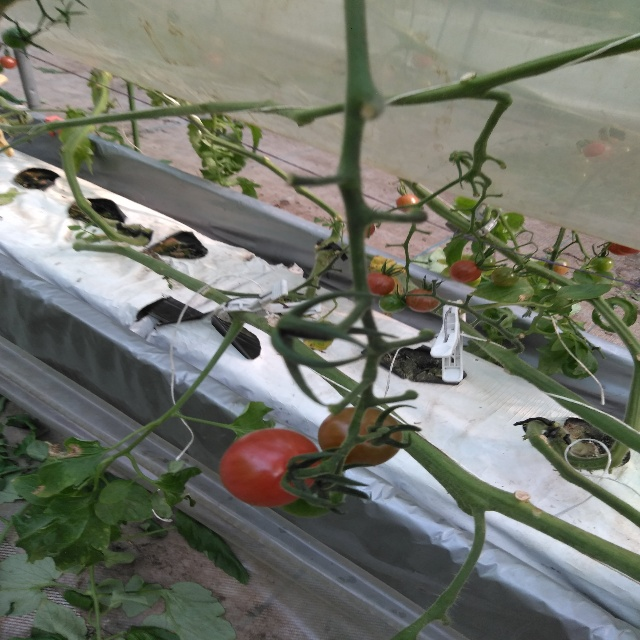l_fully_ripened: (218, 427, 322, 508), (449, 260, 482, 284), (367, 272, 395, 297)
l_green: (277, 453, 344, 517), (490, 267, 520, 287), (378, 293, 407, 313), (467, 252, 496, 272), (588, 257, 614, 273)
l_half_ripened: (316, 406, 403, 468), (406, 289, 439, 312), (544, 258, 570, 275), (396, 194, 420, 212)
